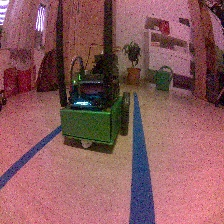rob: (59, 53, 130, 149)
